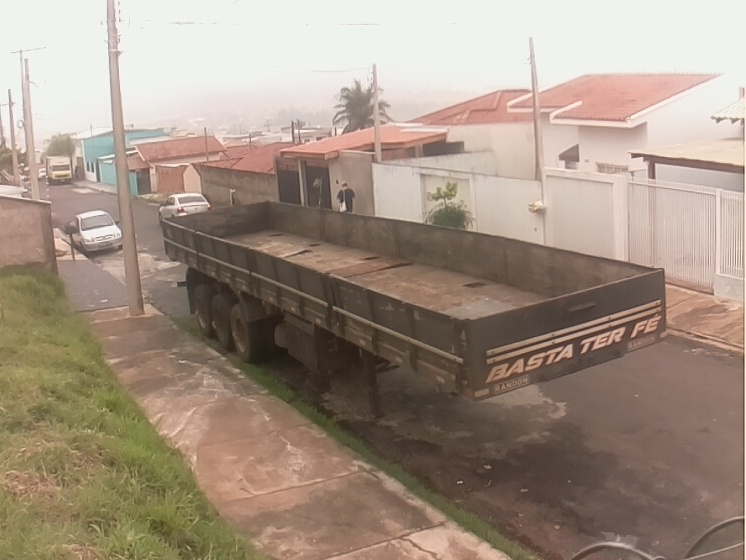person: (335, 180, 357, 216)
